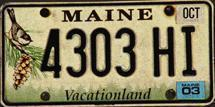placa de veiculo: (3, 2, 212, 104)
